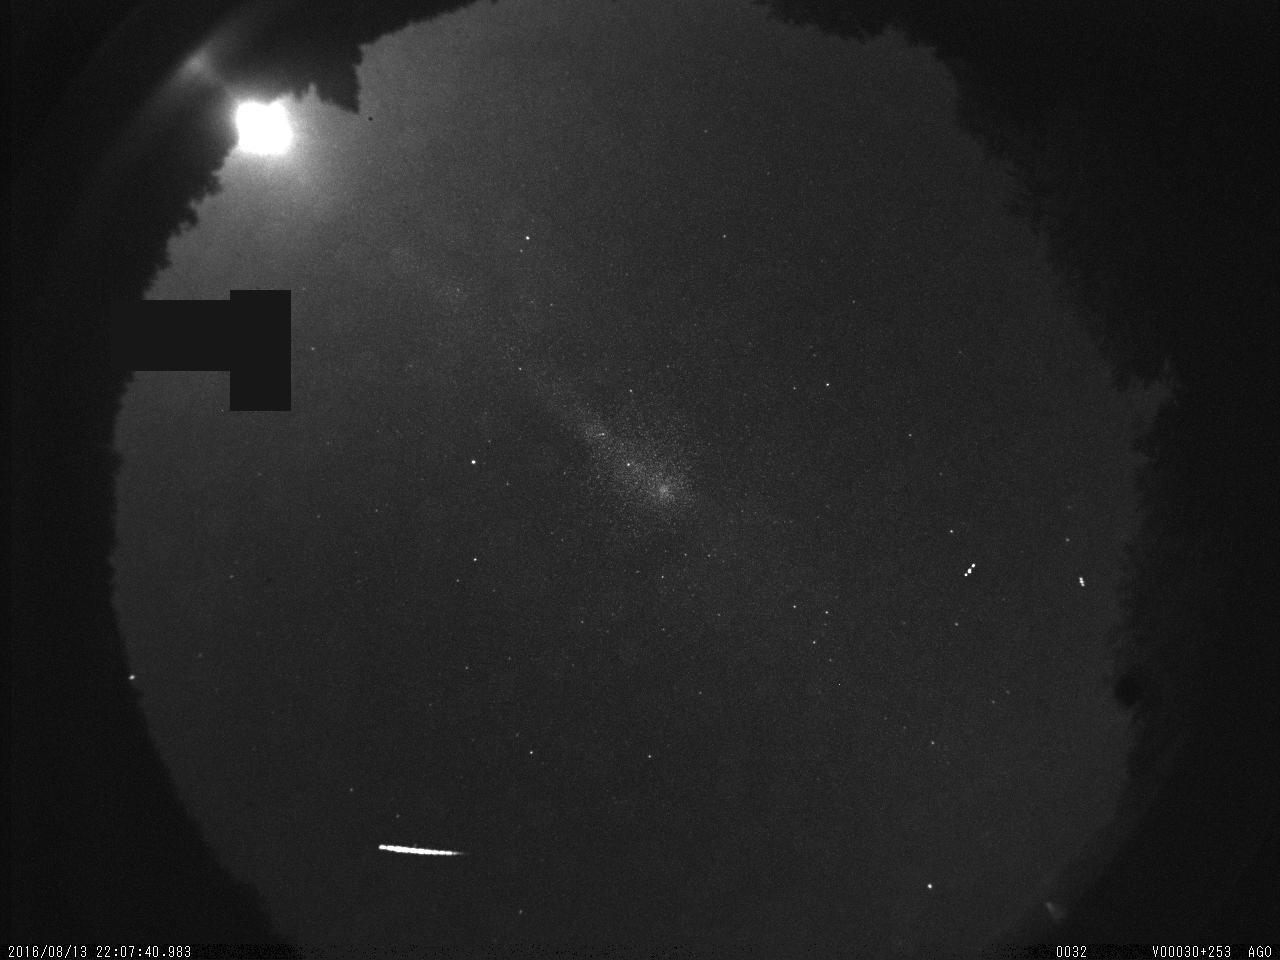meteor: (378, 831, 467, 869)
